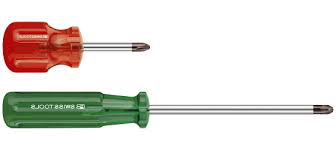screwdriver: (1, 81, 336, 143)
